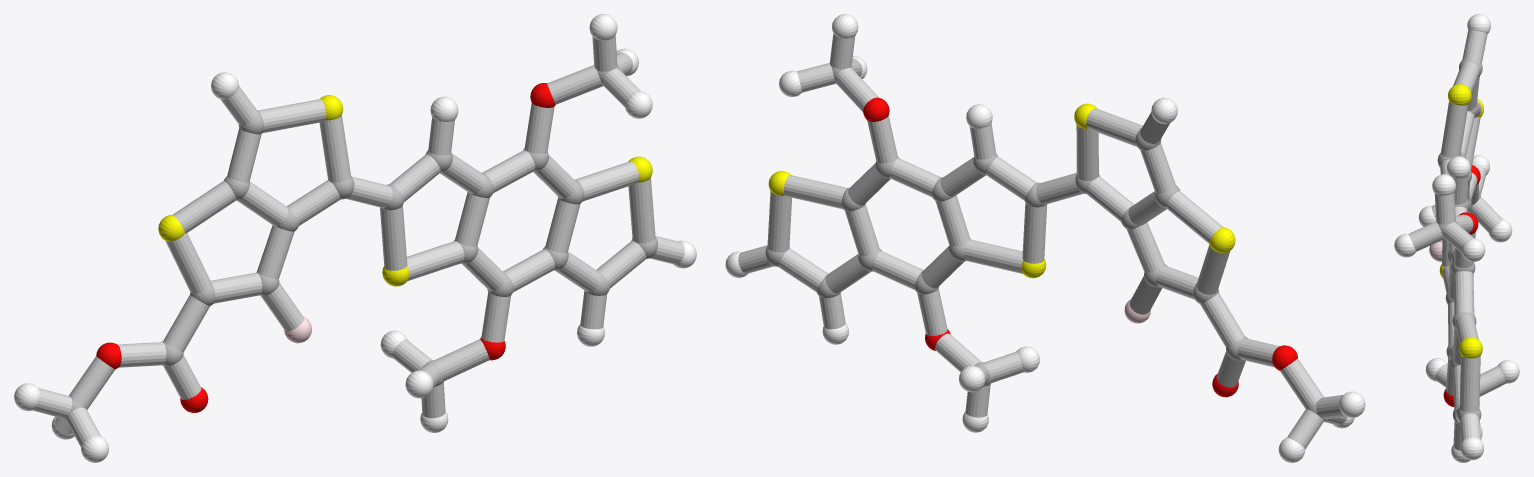
Rendered from color.glb.
3 renders of one model, left to right at view 1: azimuth 30°, elevation 25°; view 2: azimuth 150°, elevation 25°; view 3: azimuth 270°, elevation 25°, orthographic. The views are drawn at different scales.
Parts seen in each view (by area): view 1: grp15205, grp8689, grp1, grp7241, grp13395; view 2: grp15205, grp8689, grp1, grp7241, grp13395; view 3: grp15205, grp8689, grp1, grp7241, grp13395, grp14843.
Boxes of the visible parts, x1,y1,x2,y2 form: grp15205: [33, 35, 684, 447]; grp8689: [14, 14, 696, 462]; grp1: [63, 64, 657, 421]; grp7241: [158, 95, 652, 286]; grp13395: [96, 83, 555, 412]; grp15205: [738, 33, 1347, 449]; grp8689: [725, 14, 1365, 462]; grp1: [765, 66, 1326, 420]; grp7241: [768, 103, 1235, 278]; grp13395: [863, 97, 1297, 397]; grp15205: [1408, 30, 1506, 450]; grp8689: [1394, 14, 1519, 462]; grp1: [1437, 59, 1482, 424]; grp7241: [1439, 84, 1483, 358]; grp13395: [1443, 165, 1480, 406]; grp14843: [1429, 242, 1442, 261].
Size of the model in its own units: 16.68 by 9.54 by 3.15.
